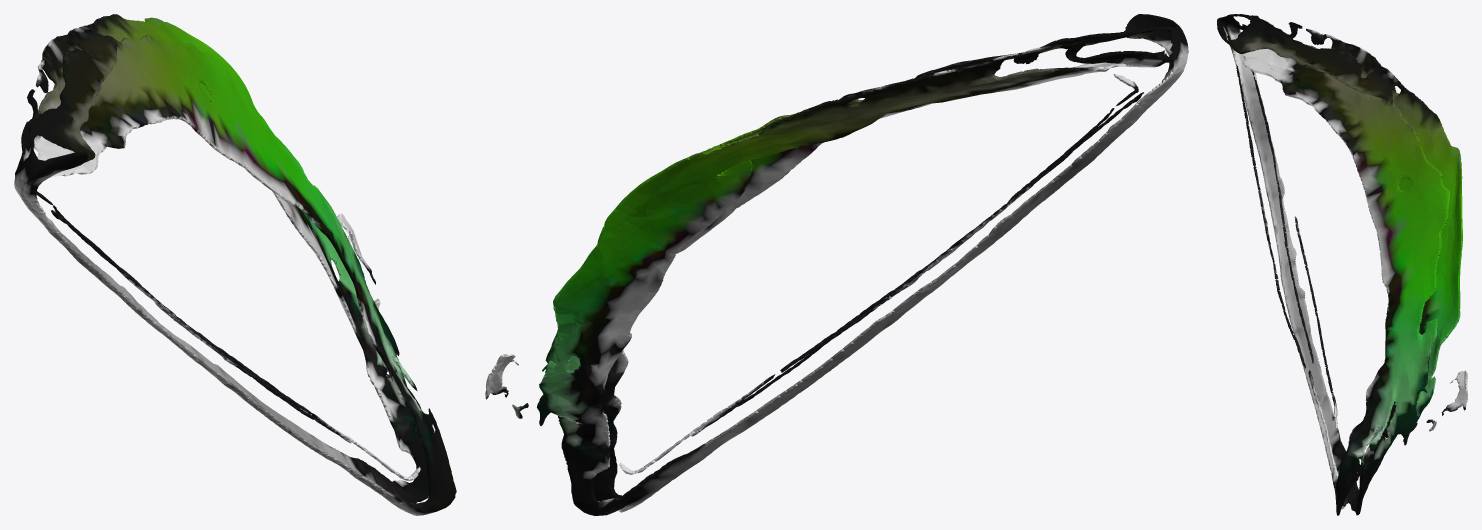
Rendered from elven_bow.glb.
The picture shows the model from 3 angles, left to right: view 1: azimuth 30°, elevation 25°; view 2: azimuth 150°, elevation 25°; view 3: azimuth 270°, elevation 25°; orthographic projection. The views are drawn at different scales.
Parts seen in each view (by area): view 1: geometry_0; view 2: geometry_0; view 3: geometry_0.
Part boxes in pixels (x1,y1,x2,y2): geometry_0: [14, 14, 456, 515]; geometry_0: [485, 14, 1188, 515]; geometry_0: [1217, 14, 1467, 515].
Size of the model in its own units: 0.9335 by 0.9375 by 0.6027.
